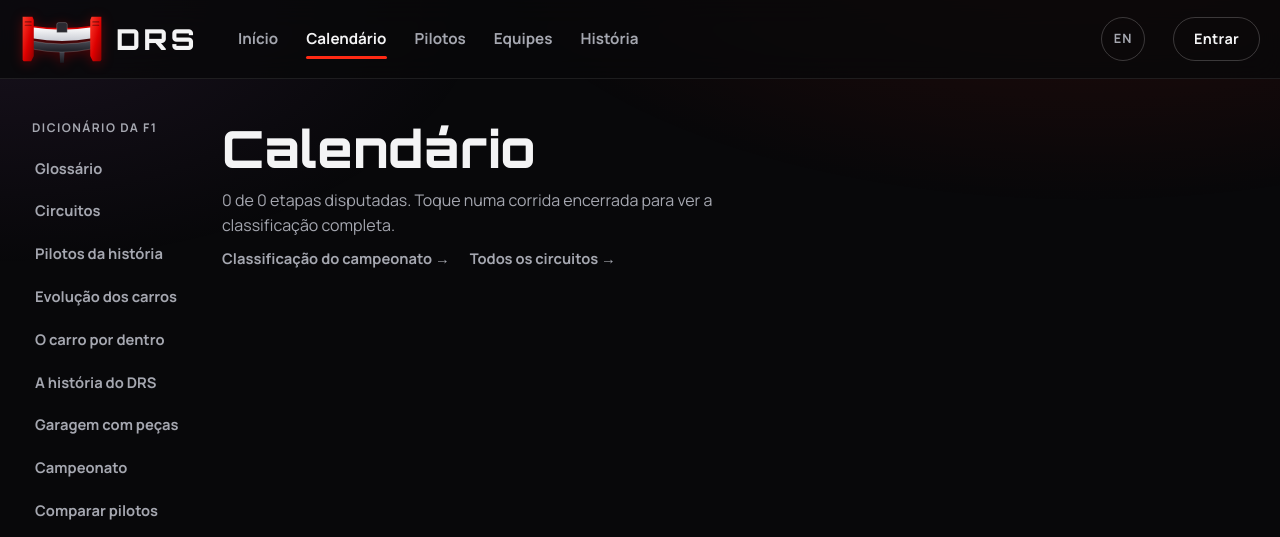
Idioma do site › troca o site para inglês e volta para português
Check: the link "Calendário" is shown, box x1=294 y1=17 x2=398 y2=61
Click the button with aria-label "Read in English" at point(1123, 39), box x1=1101 y1=17 x2=1145 y2=61
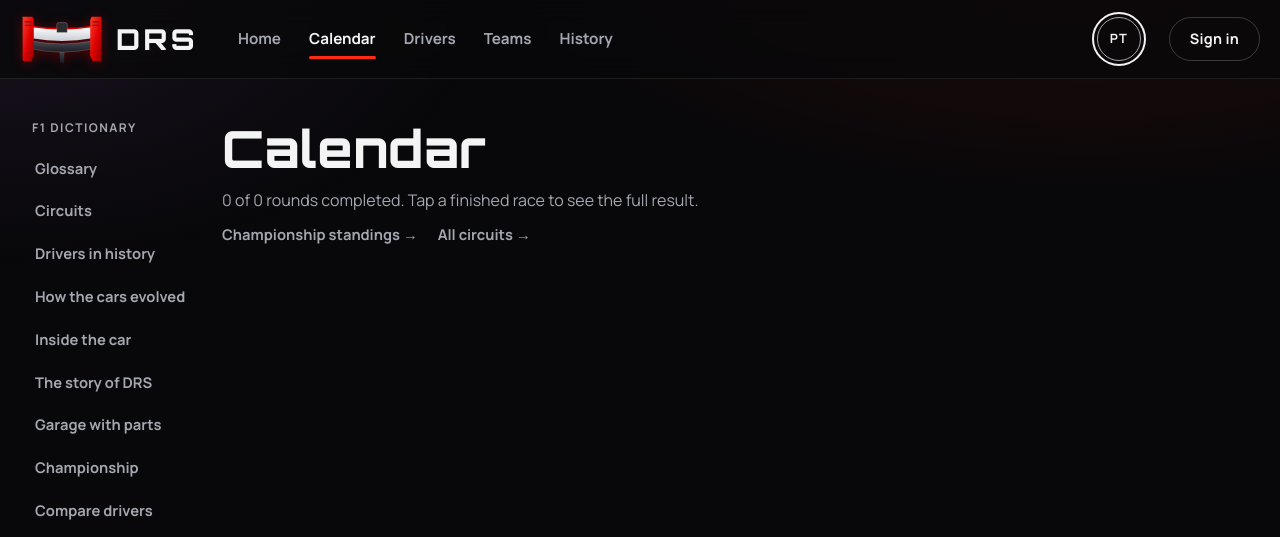
Check: the link "Calendar" is shown, box x1=297 y1=17 x2=388 y2=61
Check: the link "Drivers" is shown, box x1=404 y1=28 x2=456 y2=49
Click the button with aria-label "Ler em português" at point(1119, 39), box x1=1097 y1=17 x2=1141 y2=61
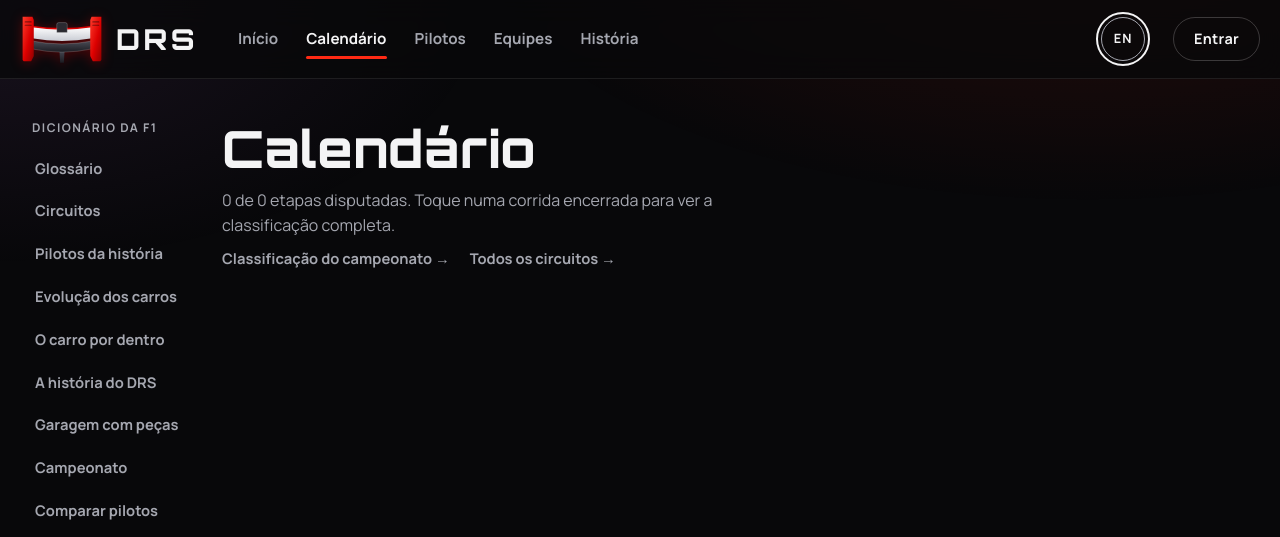
Check: the navigation bar named "Principal" is shown, box x1=238 y1=28 x2=638 y2=49
